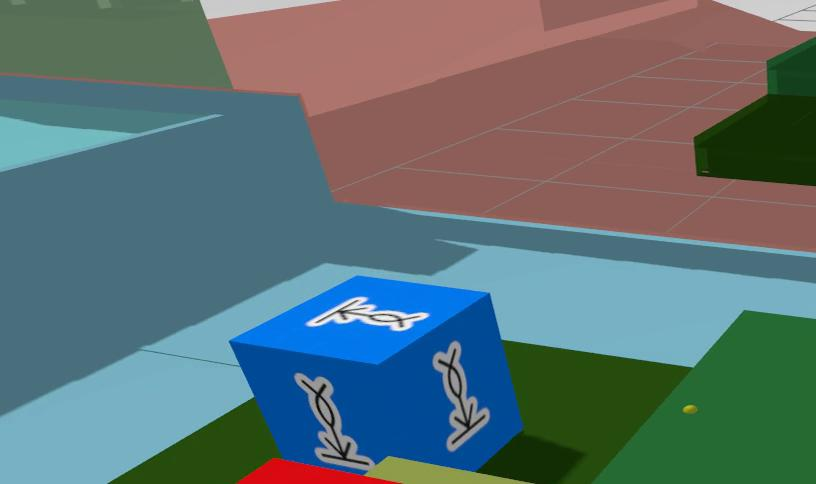KFS_FAKE: (235, 460, 404, 484)
KFS_REAL: (230, 276, 522, 472), (295, 374, 373, 469), (433, 340, 490, 452), (308, 296, 428, 331)
